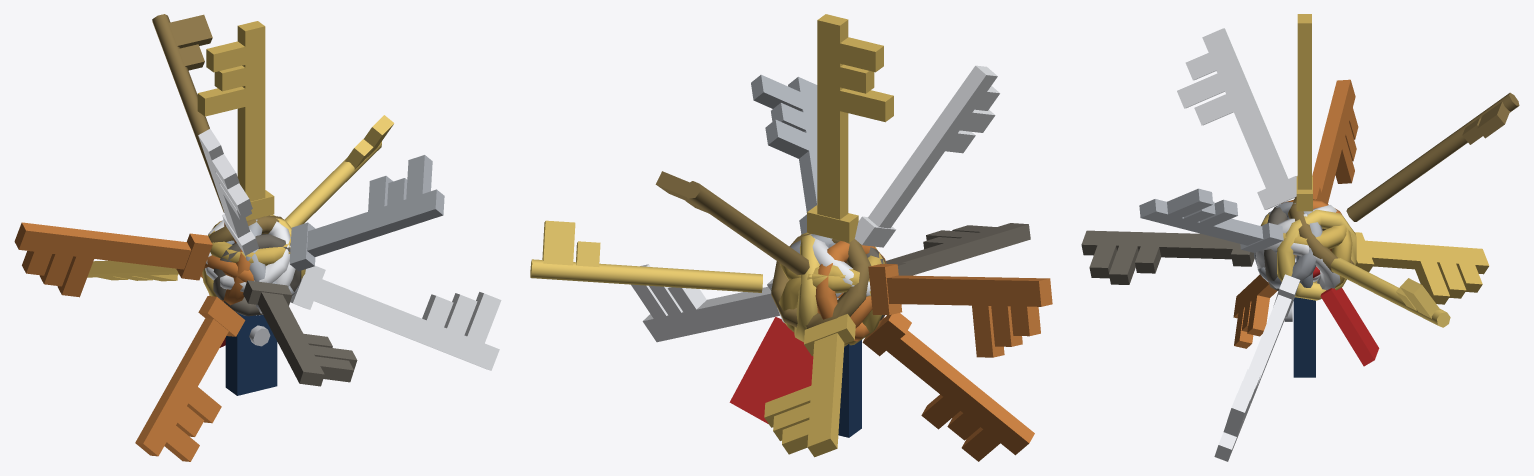
The model's file is prop-keys.glb.
3 views of the same model, side by side, from view 1: azimuth 30°, elevation 25°; view 2: azimuth 150°, elevation 25°; view 3: azimuth 270°, elevation 25° (orthographic). The views are drawn at different scales.
Parts seen in each view (by area): view 1: propVisual; view 2: propVisual; view 3: propVisual.
Boxes of the visible parts, x1,y1,x2,y2 form: propVisual: (14,14,501,461); propVisual: (530,14,1052,461); propVisual: (1081,14,1519,461).
Bounding box in the file's own units: 0.1492 × 0.1296 × 0.1365.
